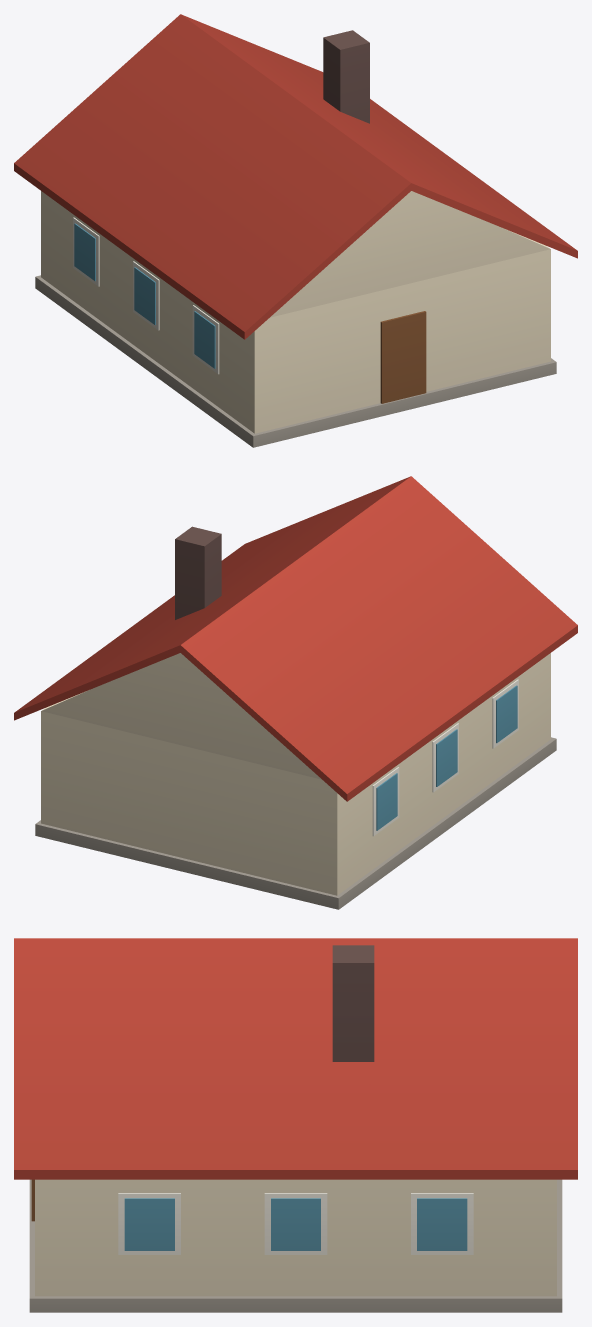
Rendered from house.glb.
3 views of the same model, one above another, from view 1: azimuth 30°, elevation 25°; view 2: azimuth 150°, elevation 25°; view 3: azimuth 270°, elevation 25° (orthographic). The views are drawn at different scales.
Parts seen in each view (by area): view 1: house; view 2: house; view 3: house.
Boxes of the visible parts, x1,y1,x2,y2 form: house: (14, 14, 577, 447); house: (14, 476, 577, 909); house: (14, 938, 577, 1312).
Size of the model in its own units: 9 by 6.6 by 10.8.
Materials: 2 (2 with a texture image).
